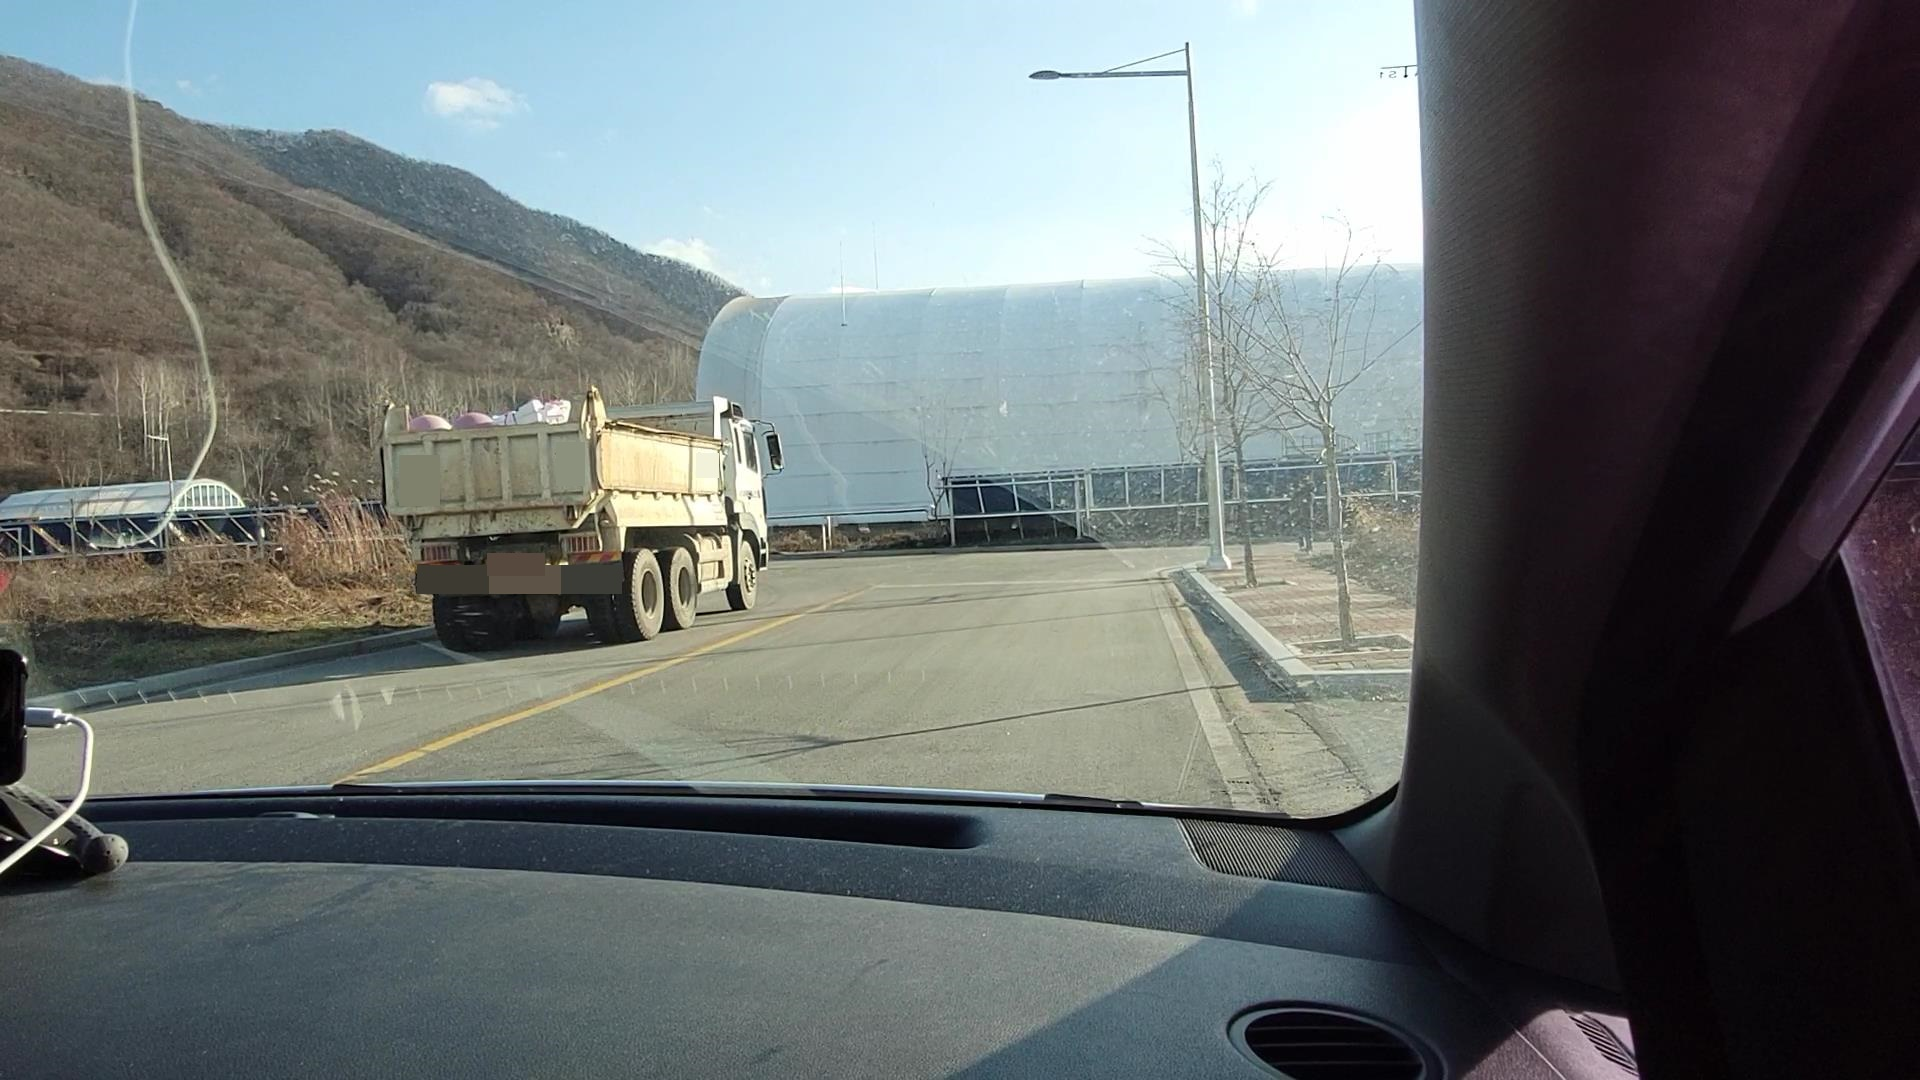불법차량: (379, 384, 785, 651)
